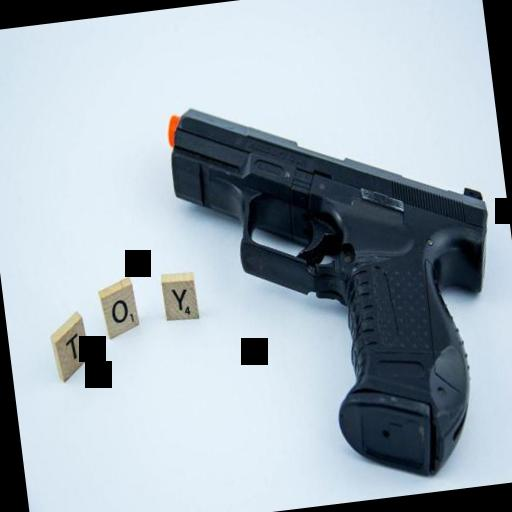Handgun: (156, 59, 512, 505)
